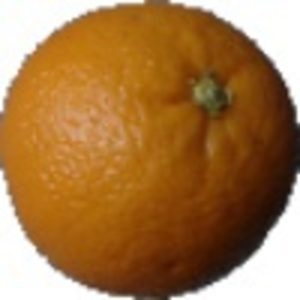laranja: (5, 3, 297, 294)
